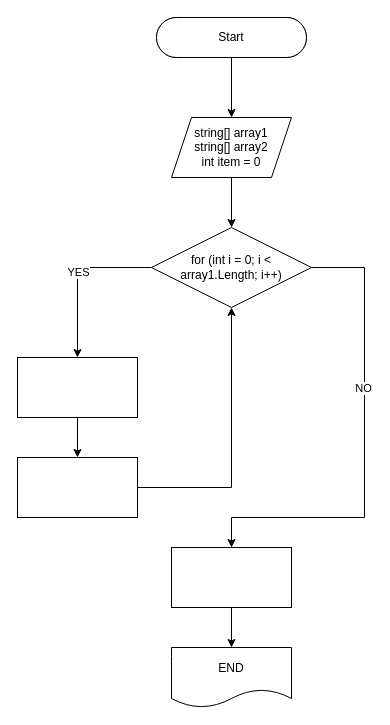
The diagram is 390 pixels wide and 725 high, and some of its shapes have lost their labels. The centre of each missing label's shape, as x and y in pixels:
array2[item] = array1[i];: point 77,387
item++;: point 77,487
PrintArray(array1); PrintArray(array2);: point 231,577
